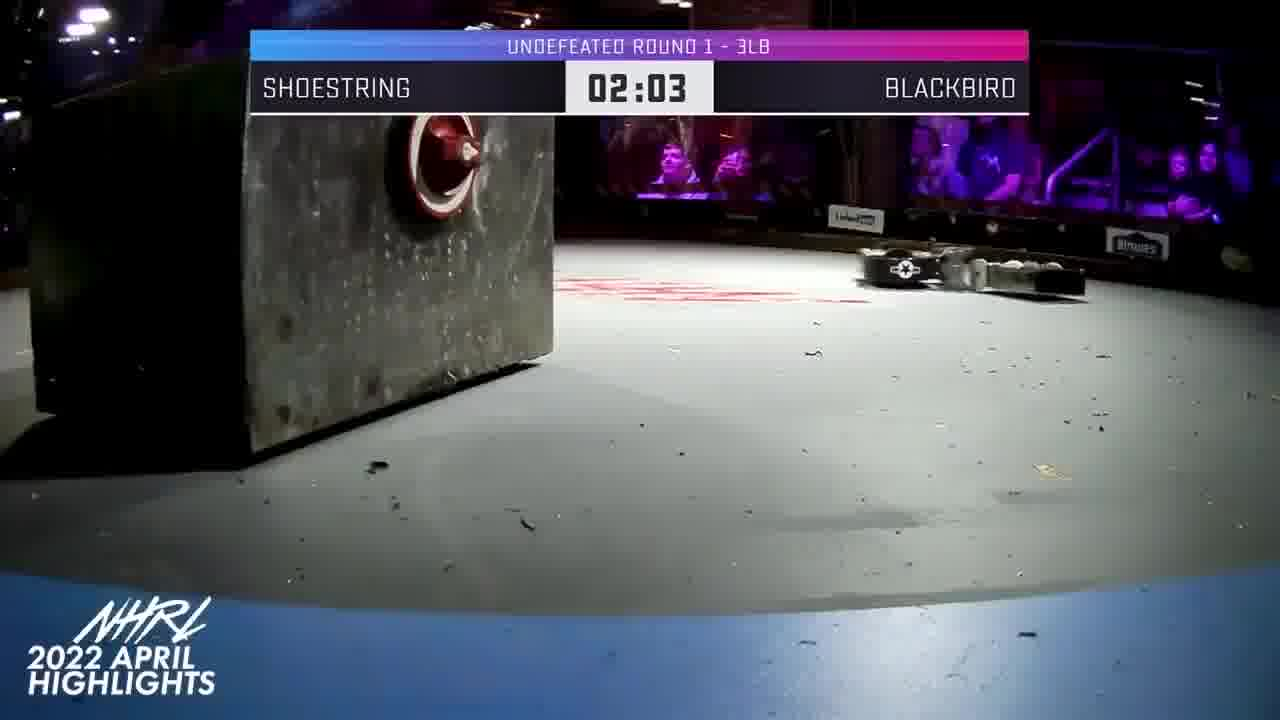combatbot: (970, 257, 1088, 298), (859, 248, 971, 288)
housebot: (22, 96, 558, 458)
